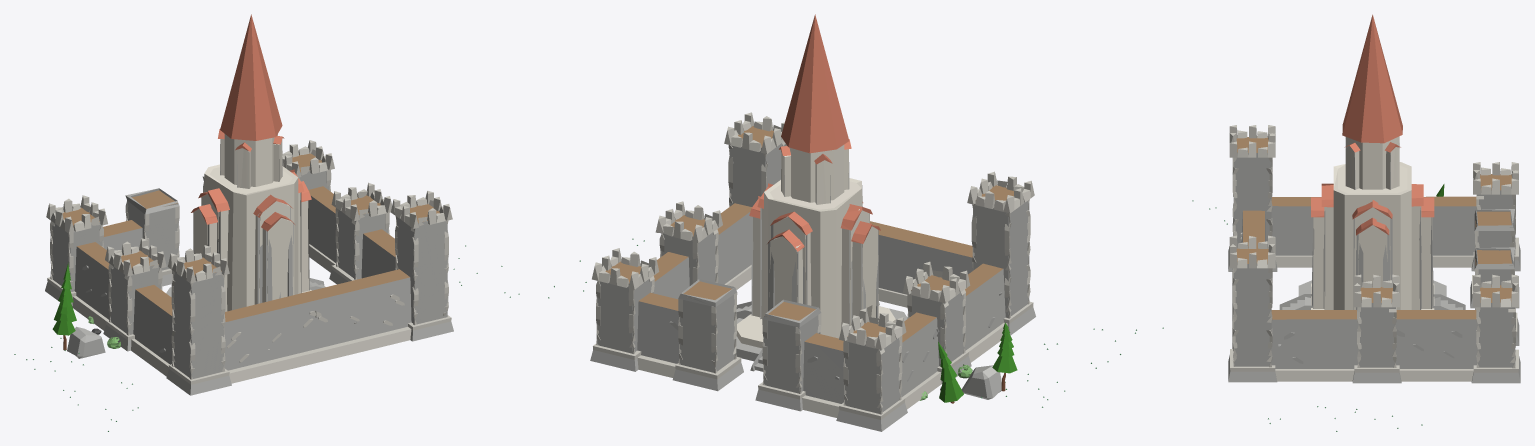
Rendered from chunk_1_0_lod1.glb.
The picture shows the model from 3 angles, left to right: view 1: azimuth 30°, elevation 25°; view 2: azimuth 150°, elevation 25°; view 3: azimuth 270°, elevation 25°; orthographic projection. The views are drawn at different scales.
Parts seen in each view (by area): view 1: Batched_chunk_1_0_lod1; view 2: Batched_chunk_1_0_lod1; view 3: Batched_chunk_1_0_lod1.
Boxes of the visible parts, x1,y1,x2,y2 form: Batched_chunk_1_0_lod1: [14, 14, 519, 431]; Batched_chunk_1_0_lod1: [548, 14, 1163, 431]; Batched_chunk_1_0_lod1: [1192, 14, 1520, 431].
Size of the model in its own units: 88.17 by 55.33 by 52.94.
Materials: 12 (2 with a texture image).
